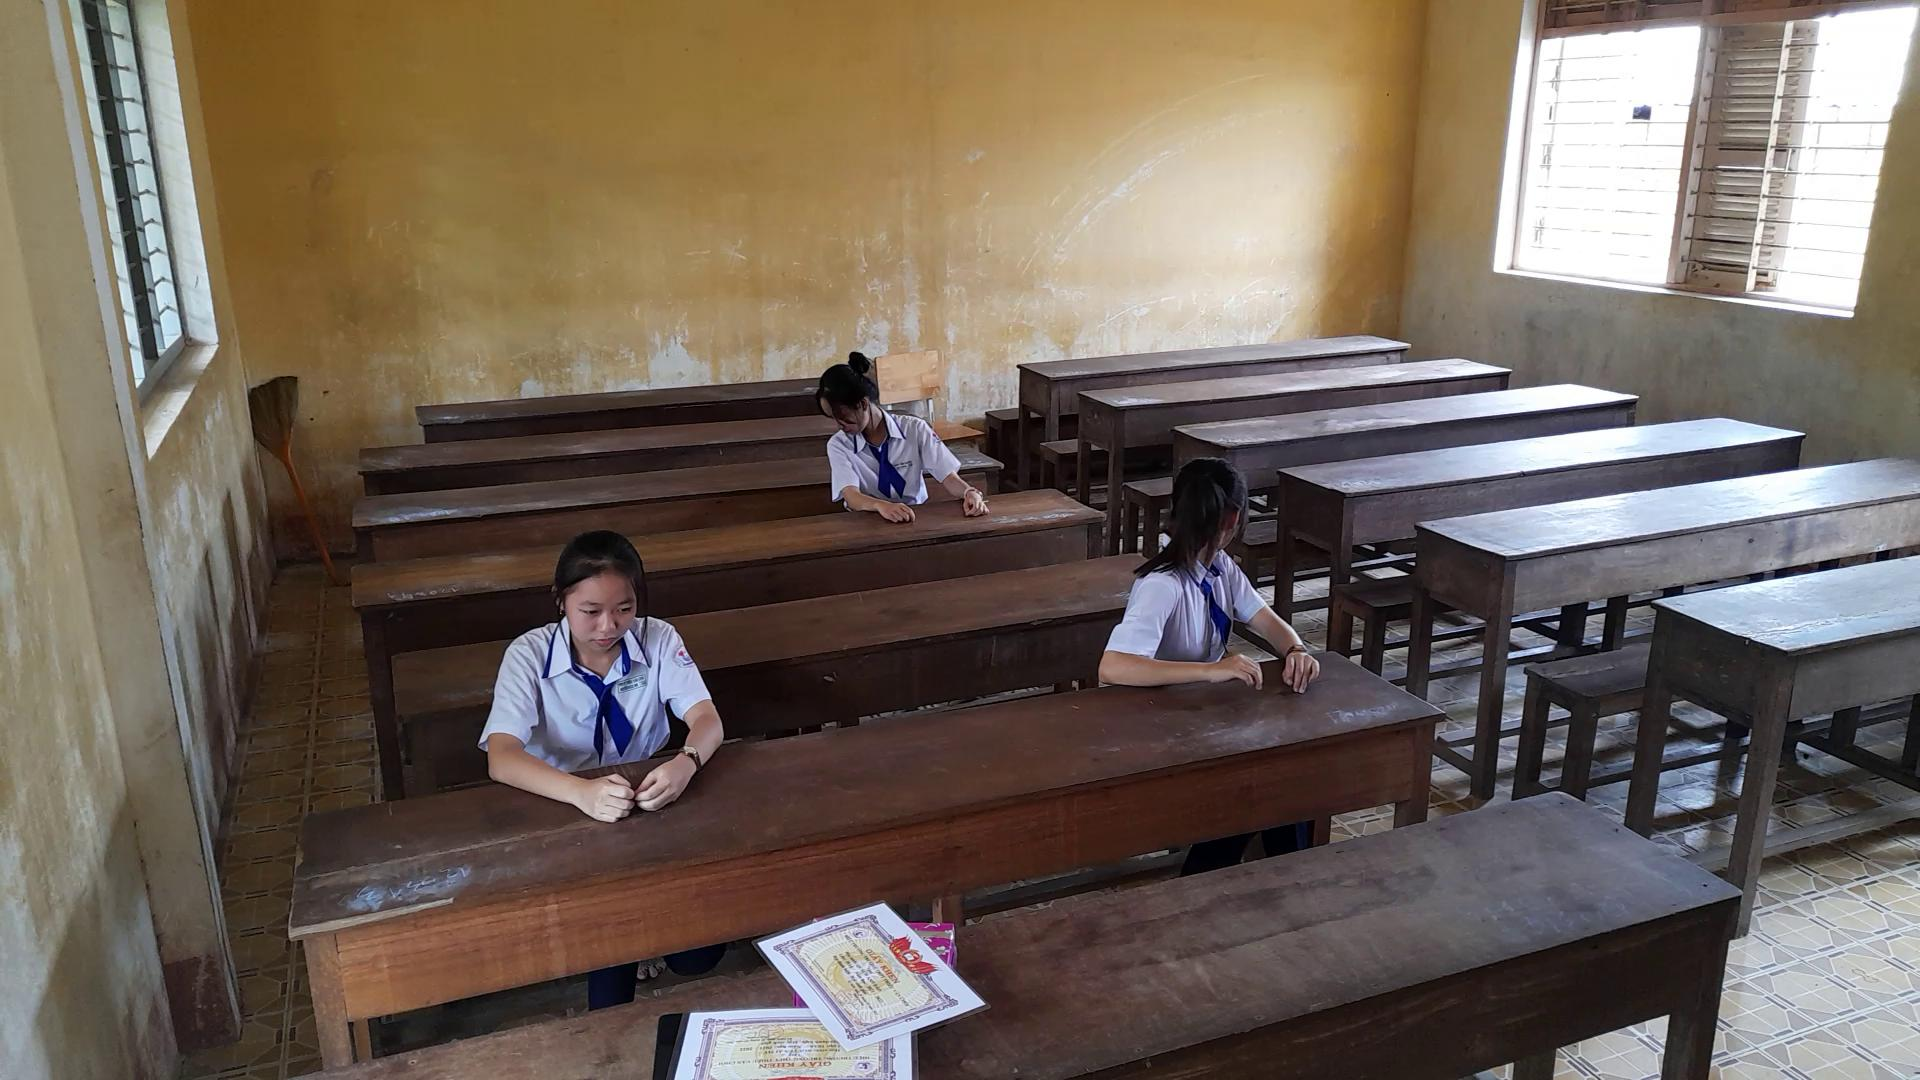Bend Over The Desk: (793, 338, 909, 462)
Look Around: (1109, 429, 1257, 579)
Normal: (459, 514, 733, 825)
